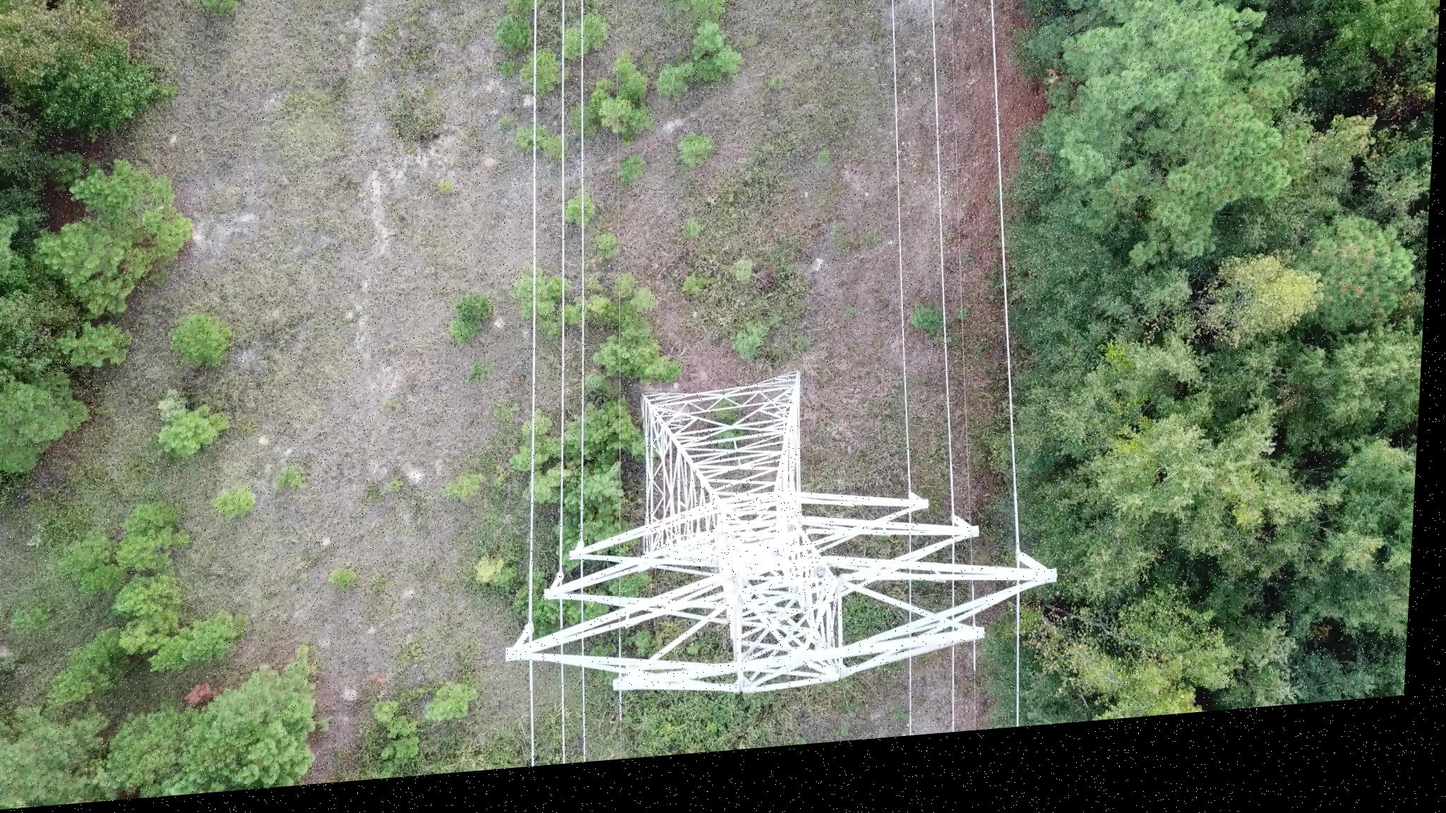tower: (500, 346, 1070, 713)
